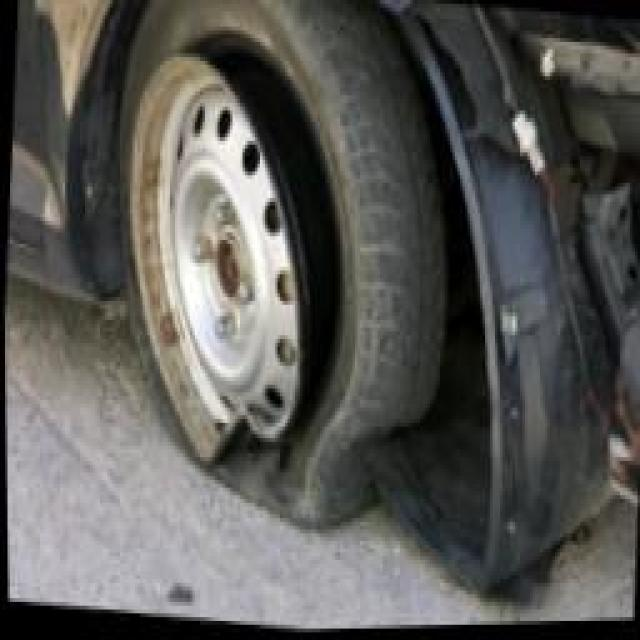Bumper: (418, 4, 640, 574)
